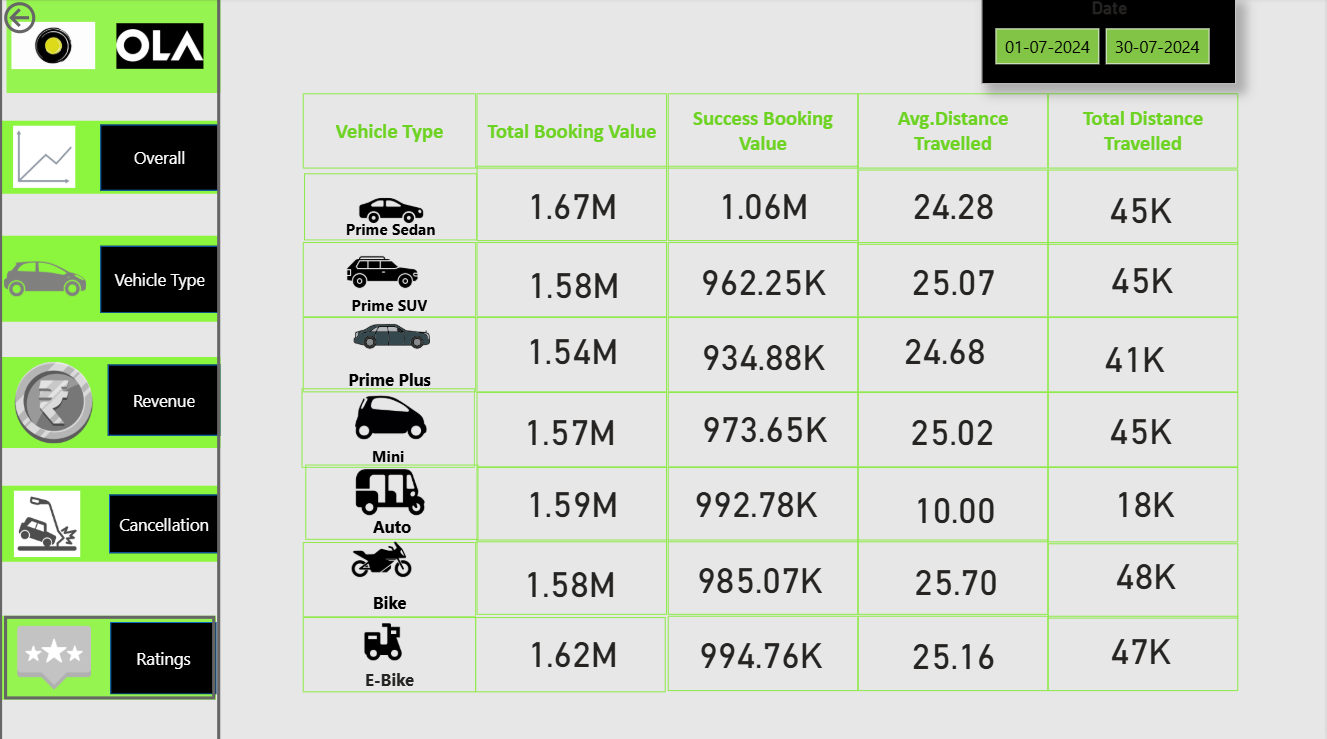

Layout of this report page (visuals, bound fields, positions):
{"tool":"powerbi","page":{"name":"Vehicle Type","canvas":[1280,720],"ordinal":1},"visuals":[{"type":"group","id":"g1","title":"Group 6","box":[7.2,0,206.3,92.9],"z":0},{"type":"group","id":"g2","title":"Group 7","box":[0,119.4,212.3,70],"z":1000},{"type":"group","id":"g3","title":"Group 3","box":[0,230.4,212.3,83.2],"z":2000},{"type":"group","id":"g4","title":"Group 1","box":[0,597.2,209.9,80.8],"z":3000},{"type":"group","id":"g5","title":"Group 5","box":[0,471.7,212.3,73.6],"z":4000},{"type":"image","box":[7.2,0,90.3,92.9],"z":5000,"group":"g1"},{"type":"group","id":"g6","title":"Group 8","box":[2.4,347.5,210.6,88.1],"z":5000},{"type":"actionButton","box":[0,0,213.5,720.2],"z":6000},{"type":"image","box":[96.7,20.2,117.2,53.9],"z":6000,"group":"g1"},{"type":"image","box":[0,471.7,92.1,73.6],"z":7000,"group":"g7"},{"type":"actionButton","box":[4.8,597.2,203.9,80.8],"z":7000},{"type":"shape","box":[293.7,93.3,167.4,72.7],"z":8000},{"type":"image","box":[0,230.4,89,83.2],"z":8000,"group":"g3"},{"type":"shape","box":[461.1,93.3,183.9,72.7],"z":9000},{"type":"image","box":[270.3,166,216.8,79.6],"z":10000},{"type":"image","box":[0,597.2,106.2,80.8],"z":10000,"group":"g4"},{"type":"shape","box":[644.9,93.3,183.9,72.7],"z":11000},{"type":"image","box":[0,119.4,86.6,70],"z":11000,"group":"g8"},{"type":"image","box":[2.4,347.5,100.7,88.1],"z":11001,"group":"g6"},{"type":"group","id":"g7","title":"Group 4","box":[0,471.7,92.1,73.6],"z":11005,"group":"g5"},{"type":"group","id":"g8","title":"Group 2","box":[0,119.4,86.6,70],"z":11007,"group":"g2"},{"type":"shape","box":[97.9,123,114.4,63.9],"z":11014,"group":"g2"},{"type":"shape","box":[97.7,239.5,114.6,65.1],"z":11015,"group":"g3"},{"type":"shape","box":[104.4,354.3,108.6,68.8],"z":11016,"group":"g6"},{"type":"shape","box":[106.2,480.5,106.2,56.7],"z":11017,"group":"g5"},{"type":"shape","box":[107.4,603.2,102.5,70],"z":11018,"group":"g4"},{"type":"shape","box":[828.8,93.3,183.9,72.7],"z":12000},{"type":"shape","box":[1012.7,93.3,183.9,72.7],"z":13000},{"type":"shape","box":[294.5,169.7,167.2,64.9],"z":14000},{"type":"shape","box":[461.1,163.3,183.9,72.7],"z":15000},{"type":"shape","box":[644.9,163.3,183.9,72.7],"z":16000},{"type":"shape","box":[828.8,166,183.9,72.7],"z":17000},{"type":"shape","box":[1012.7,166,183.9,72.7],"z":18000},{"type":"shape","box":[1012.7,236,183.9,72.7],"z":19000},{"type":"shape","box":[461.1,236,183.9,72.7],"z":20000},{"type":"shape","box":[644.9,236,183.9,72.7],"z":21000},{"type":"shape","box":[828.8,236,183.9,72.7],"z":22000},{"type":"shape","box":[461.1,308.7,183.9,72.7],"z":23000},{"type":"shape","box":[644.9,308.7,183.9,72.7],"z":24000},{"type":"shape","box":[828.8,308.7,183.9,72.7],"z":25000},{"type":"shape","box":[1012.7,308.7,183.9,72.7],"z":26000},{"type":"shape","box":[461.1,381.5,183.9,72.7],"z":27000},{"type":"shape","box":[644.9,381.5,183.9,72.7],"z":28000},{"type":"shape","box":[828.8,381.5,183.9,72.7],"z":29000},{"type":"shape","box":[1012.7,381.5,183.9,72.7],"z":30000},{"type":"shape","box":[461.1,454.2,183.9,72.7],"z":31000},{"type":"shape","box":[644.9,454.2,183.9,72.7],"z":32000},{"type":"shape","box":[828.8,454.2,183.9,72.7],"z":33000},{"type":"shape","box":[1012.7,454.2,183.9,72.7],"z":34000},{"type":"shape","box":[461.1,524.2,183.9,72.7],"z":35000},{"type":"shape","box":[644.9,524.2,183.9,72.7],"z":36000},{"type":"shape","box":[828.8,524.2,183.9,72.7],"z":37000},{"type":"shape","box":[1012.7,526.9,183.9,72.7],"z":38000},{"type":"shape","box":[644.9,596.9,183.9,72.7],"z":39000},{"type":"shape","box":[828.8,596.9,183.9,72.7],"z":40000},{"type":"shape","box":[1012.7,596.9,183.9,72.7],"z":41000},{"type":"shape","box":[293.7,236,167.4,72.7],"z":42000},{"type":"shape","box":[293.7,308.7,167.4,72.7],"z":43000},{"type":"shape","box":[292.3,377.4,167.4,76.8],"z":44000},{"type":"shape","box":[295,451.5,167.4,72.7],"z":45000},{"type":"shape","box":[293.7,525.6,167.4,72.7],"z":46000},{"type":"shape","box":[293.7,598.3,167.4,72.7],"z":47000},{"type":"image","box":[286.8,596.9,167.4,50.8],"z":48000},{"type":"image","box":[295,509.1,146.8,67.2],"z":49000},{"type":"image","box":[314.2,435,127.6,85.1],"z":50000},{"type":"image","box":[339.4,346.9,78.6,116],"z":51000},{"type":"image","box":[312.9,226.4,115.3,78.2],"z":52000},{"type":"image","box":[286.8,285.4,183.9,83.7],"z":53000},{"type":"card","fields":{"Values":["Sum(July.Booking_Value)"]},"box":[462.4,163.3,182.5,74.1],"z":54000},{"type":"card","fields":{"Values":["Sum(July.Booking_Value)"]},"box":[459.7,381.5,182.5,74.1],"z":55000},{"type":"card","fields":{"Values":["Sum(July.Booking_Value)"]},"box":[462.4,303.3,182.5,74.1],"z":56000},{"type":"card","fields":{"Values":["Sum(July.Booking_Value)"]},"box":[463.8,238.8,182.5,74.1],"z":57000},{"type":"card","fields":{"Values":["Sum(July.Booking_Value)"]},"box":[462.4,450.1,182.5,74.1],"z":58000},{"type":"card","fields":{"Values":["Sum(July.Booking_Value)"]},"box":[459.7,526.9,182.5,74.1],"z":59000},{"type":"shape","box":[459.7,598.3,183.9,72.7],"z":60000},{"type":"card","fields":{"Values":["Sum(July.Booking_Value)"]},"box":[461.7,595.2,183.4,74.9],"z":61000},{"type":"card","fields":{"Values":["Sum(July.Booking_Value)"]},"box":[646.3,163.3,182.5,74.1],"z":62000},{"type":"card","fields":{"Values":["Sum(July.Booking_Value)"]},"box":[646.3,236,182.5,74.1],"z":63000},{"type":"card","fields":{"Values":["Sum(July.Booking_Value)"]},"box":[646.3,308.7,182.5,74.1],"z":64000},{"type":"card","fields":{"Values":["Sum(July.Booking_Value)"]},"box":[647.7,377.4,182.5,74.1],"z":65000},{"type":"card","fields":{"Values":["Sum(July.Booking_Value)"]},"box":[639.5,450.1,182.5,74.1],"z":66000},{"type":"card","fields":{"Values":["Sum(July.Booking_Value)"]},"box":[643.6,524.2,182.5,74.1],"z":67000},{"type":"card","fields":{"Values":["Sum(July.Booking_Value)"]},"box":[645.1,596.5,179.7,74.9],"z":68000},{"type":"card","fields":{"Values":["Avg(July.Ride_Distance)"]},"box":[830.2,163.3,182.5,74.1],"z":69000},{"type":"actionButton","box":[0,0,100,40],"z":70000},{"type":"card","fields":{"Values":["Avg(July.Ride_Distance)"]},"box":[830.2,236,182.5,74.1],"z":71000},{"type":"card","fields":{"Values":["Avg(July.Ride_Distance)"]},"box":[822,303.3,182.5,74.1],"z":72000},{"type":"card","fields":{"Values":["Avg(July.Ride_Distance)"]},"box":[828.8,381.5,182.5,74.1],"z":73000},{"type":"card","fields":{"Values":["Avg(July.Ride_Distance)"]},"box":[831.6,455.6,182.5,74.1],"z":74000},{"type":"card","fields":{"Values":["Avg(July.Ride_Distance)"]},"box":[832.9,525.6,182.5,74.1],"z":75000},{"type":"card","fields":{"Values":["Avg(July.Ride_Distance)"]},"box":[830.2,598.3,182.5,71.4],"z":76000},{"type":"card","fields":{"Values":["Sum(July.Ride_Distance)"]},"box":[1011.3,166,182.5,74.1],"z":77000},{"type":"card","fields":{"Values":["Sum(July.Ride_Distance)"]},"box":[1012.7,234.6,182.5,74.1],"z":78000},{"type":"card","fields":{"Values":["Sum(July.Ride_Distance)"]},"box":[1004.5,310.1,182.5,74.1],"z":79000},{"type":"card","fields":{"Values":["Sum(July.Ride_Distance)"]},"box":[1011.3,380.1,182.5,74.1],"z":80000},{"type":"card","fields":{"Values":["Sum(July.Ride_Distance)"]},"box":[1014.1,450.1,182.5,74.1],"z":81000},{"type":"card","fields":{"Values":["Sum(July.Ride_Distance)"]},"box":[1015.4,520.1,182.5,74.1],"z":82000},{"type":"card","fields":{"Values":["Sum(July.Ride_Distance)"]},"box":[1011.3,594.2,182.5,71.4],"z":83000},{"type":"slicer","title":"Date","fields":{"Values":["July.Date"]},"box":[948.2,0,245.6,83.7],"z":84000}]}

Visuals, with their boxes in screenshot pixels (x1, y1, x2, y2), scaled from the page's 1280x720 canvas onto the 1327x739 screenshot:
"Group 6" group: <box>7,0,221,95</box>
"Group 7" group: <box>0,123,220,194</box>
"Group 3" group: <box>0,236,220,322</box>
"Group 1" group: <box>0,613,218,696</box>
"Group 5" group: <box>0,484,220,560</box>
image: <box>7,0,101,95</box>
"Group 8" group: <box>2,357,221,447</box>
actionButton: <box>0,0,221,738</box>
image: <box>100,21,222,76</box>
image: <box>0,484,95,560</box>
actionButton: <box>5,613,216,696</box>
shape: <box>304,96,478,170</box>
image: <box>0,236,92,322</box>
shape: <box>478,96,669,170</box>
image: <box>280,170,505,252</box>
image: <box>0,613,110,696</box>
shape: <box>669,96,859,170</box>
image: <box>0,123,90,194</box>
image: <box>2,357,107,447</box>
"Group 4" group: <box>0,484,95,560</box>
"Group 2" group: <box>0,123,90,194</box>
shape: <box>101,126,220,192</box>
shape: <box>101,246,220,313</box>
shape: <box>108,364,221,434</box>
shape: <box>110,493,220,551</box>
shape: <box>111,619,218,691</box>
shape: <box>859,96,1050,170</box>
shape: <box>1050,96,1241,170</box>
shape: <box>305,174,479,241</box>
shape: <box>478,168,669,242</box>
shape: <box>669,168,859,242</box>
shape: <box>859,170,1050,245</box>
shape: <box>1050,170,1241,245</box>
shape: <box>1050,242,1241,317</box>
shape: <box>478,242,669,317</box>
shape: <box>669,242,859,317</box>
shape: <box>859,242,1050,317</box>
shape: <box>478,317,669,391</box>
shape: <box>669,317,859,391</box>
shape: <box>859,317,1050,391</box>
shape: <box>1050,317,1241,391</box>
shape: <box>478,392,669,466</box>
shape: <box>669,392,859,466</box>
shape: <box>859,392,1050,466</box>
shape: <box>1050,392,1241,466</box>
shape: <box>478,466,669,541</box>
shape: <box>669,466,859,541</box>
shape: <box>859,466,1050,541</box>
shape: <box>1050,466,1241,541</box>
shape: <box>478,538,669,613</box>
shape: <box>669,538,859,613</box>
shape: <box>859,538,1050,613</box>
shape: <box>1050,541,1241,615</box>
shape: <box>669,613,859,687</box>
shape: <box>859,613,1050,687</box>
shape: <box>1050,613,1241,687</box>
shape: <box>304,242,478,317</box>
shape: <box>304,317,478,391</box>
shape: <box>303,387,477,466</box>
shape: <box>306,463,479,538</box>
shape: <box>304,539,478,614</box>
shape: <box>304,614,478,689</box>
image: <box>297,613,471,665</box>
image: <box>306,523,458,592</box>
image: <box>326,446,458,534</box>
image: <box>352,356,433,475</box>
image: <box>324,232,444,313</box>
image: <box>297,293,488,379</box>
card - Sum(July.Booking_Value): <box>479,168,669,244</box>
card - Sum(July.Booking_Value): <box>477,392,666,468</box>
card - Sum(July.Booking_Value): <box>479,311,669,387</box>
card - Sum(July.Booking_Value): <box>481,245,670,321</box>
card - Sum(July.Booking_Value): <box>479,462,669,538</box>
card - Sum(July.Booking_Value): <box>477,541,666,617</box>
shape: <box>477,614,667,689</box>
card - Sum(July.Booking_Value): <box>479,611,669,688</box>
card - Sum(July.Booking_Value): <box>670,168,859,244</box>
card - Sum(July.Booking_Value): <box>670,242,859,318</box>
card - Sum(July.Booking_Value): <box>670,317,859,393</box>
card - Sum(July.Booking_Value): <box>671,387,861,463</box>
card - Sum(July.Booking_Value): <box>663,462,852,538</box>
card - Sum(July.Booking_Value): <box>667,538,856,614</box>
card - Sum(July.Booking_Value): <box>669,612,855,689</box>
card - Avg(July.Ride_Distance): <box>861,168,1050,244</box>
actionButton: <box>0,0,104,41</box>
card - Avg(July.Ride_Distance): <box>861,242,1050,318</box>
card - Avg(July.Ride_Distance): <box>852,311,1041,387</box>
card - Avg(July.Ride_Distance): <box>859,392,1048,468</box>
card - Avg(July.Ride_Distance): <box>862,468,1051,544</box>
card - Avg(July.Ride_Distance): <box>863,539,1053,616</box>
card - Avg(July.Ride_Distance): <box>861,614,1050,687</box>
card - Sum(July.Ride_Distance): <box>1048,170,1238,246</box>
card - Sum(July.Ride_Distance): <box>1050,241,1239,317</box>
card - Sum(July.Ride_Distance): <box>1041,318,1231,394</box>
card - Sum(July.Ride_Distance): <box>1048,390,1238,466</box>
card - Sum(July.Ride_Distance): <box>1051,462,1241,538</box>
card - Sum(July.Ride_Distance): <box>1053,534,1242,610</box>
card - Sum(July.Ride_Distance): <box>1048,610,1238,683</box>
"Date" slicer: <box>983,0,1238,86</box>
